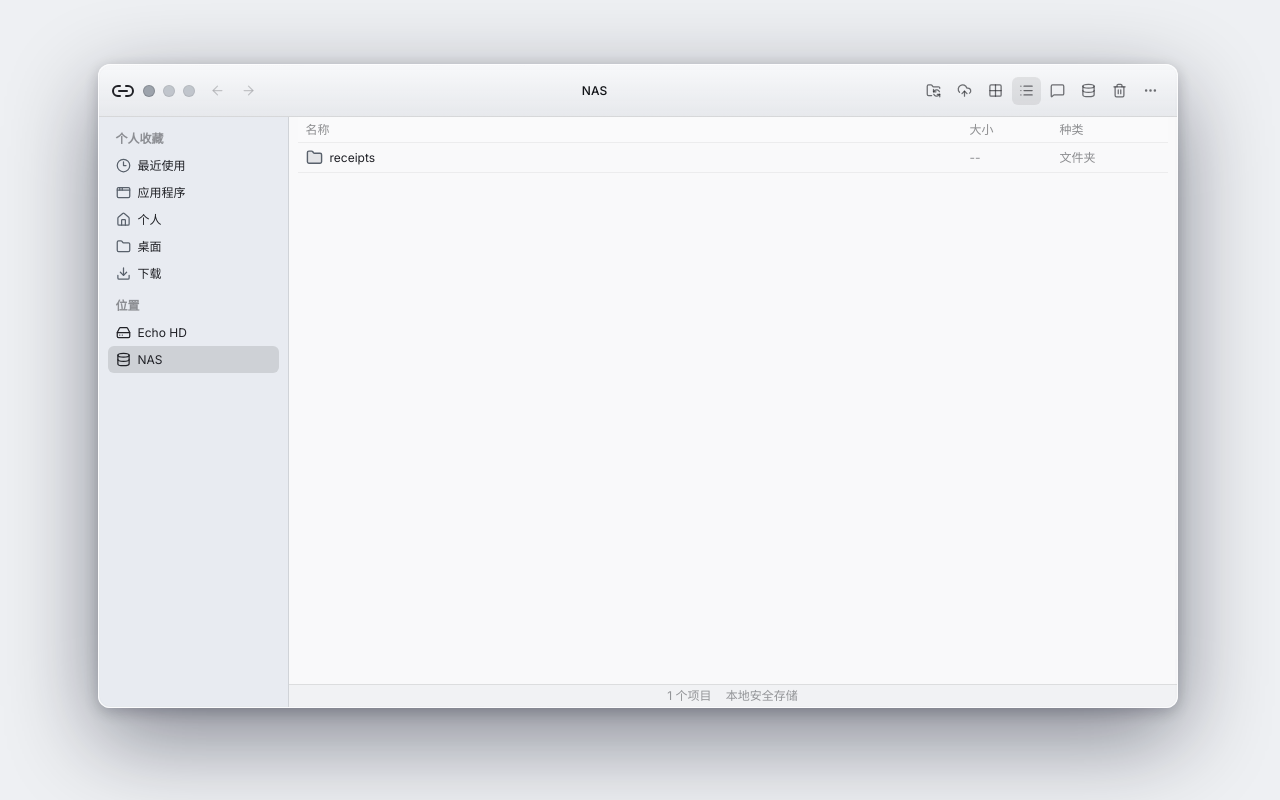
Scenario: FileManager organization entry › does not expose NAS organization from unconnected local folders or the recycle bin
Expected: the text "receipts" is shown, left=330, top=148, right=375, bottom=166
Click the button "个人": x=193, y=220 left=108, top=206, right=278, bottom=233
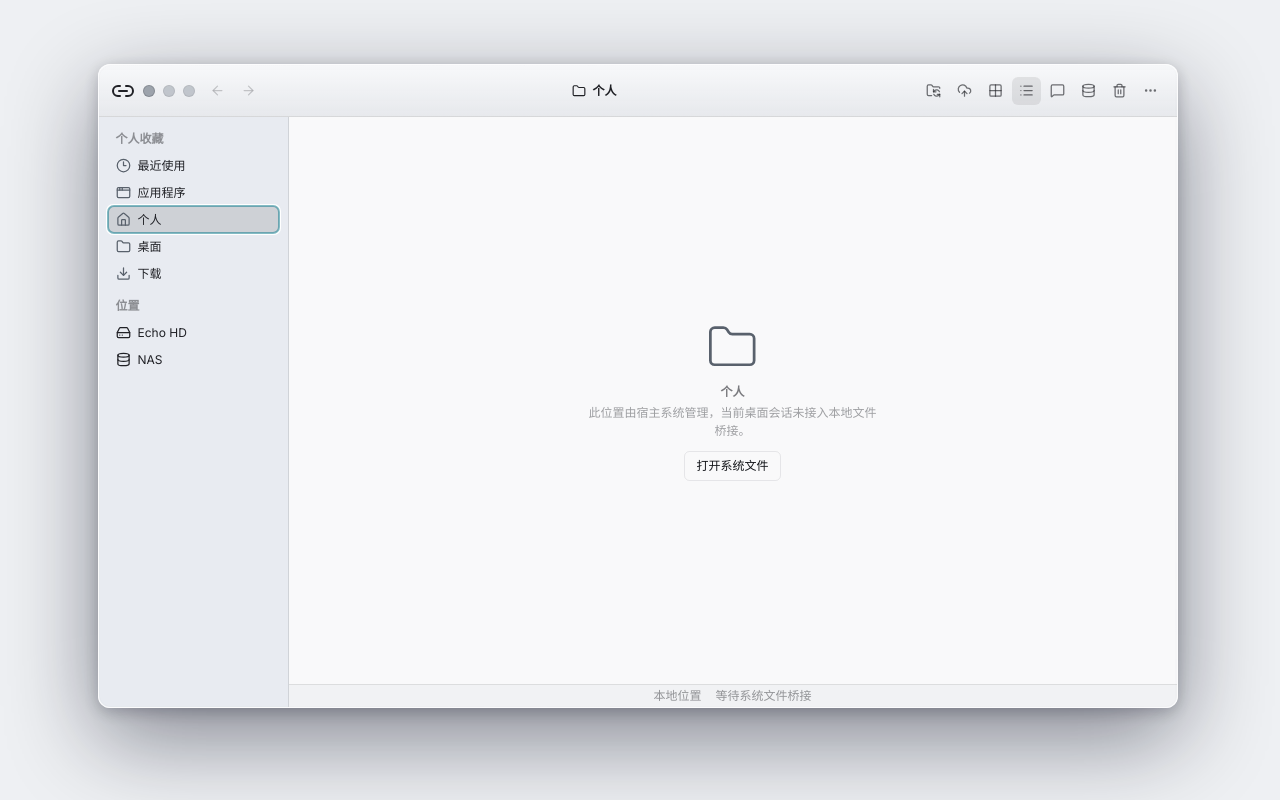
Expected: the button named "整理此目录" is disabled, left=918, top=76, right=948, bottom=104
Click the button named "回收站": x=1119, y=90 left=1104, top=76, right=1134, bottom=104
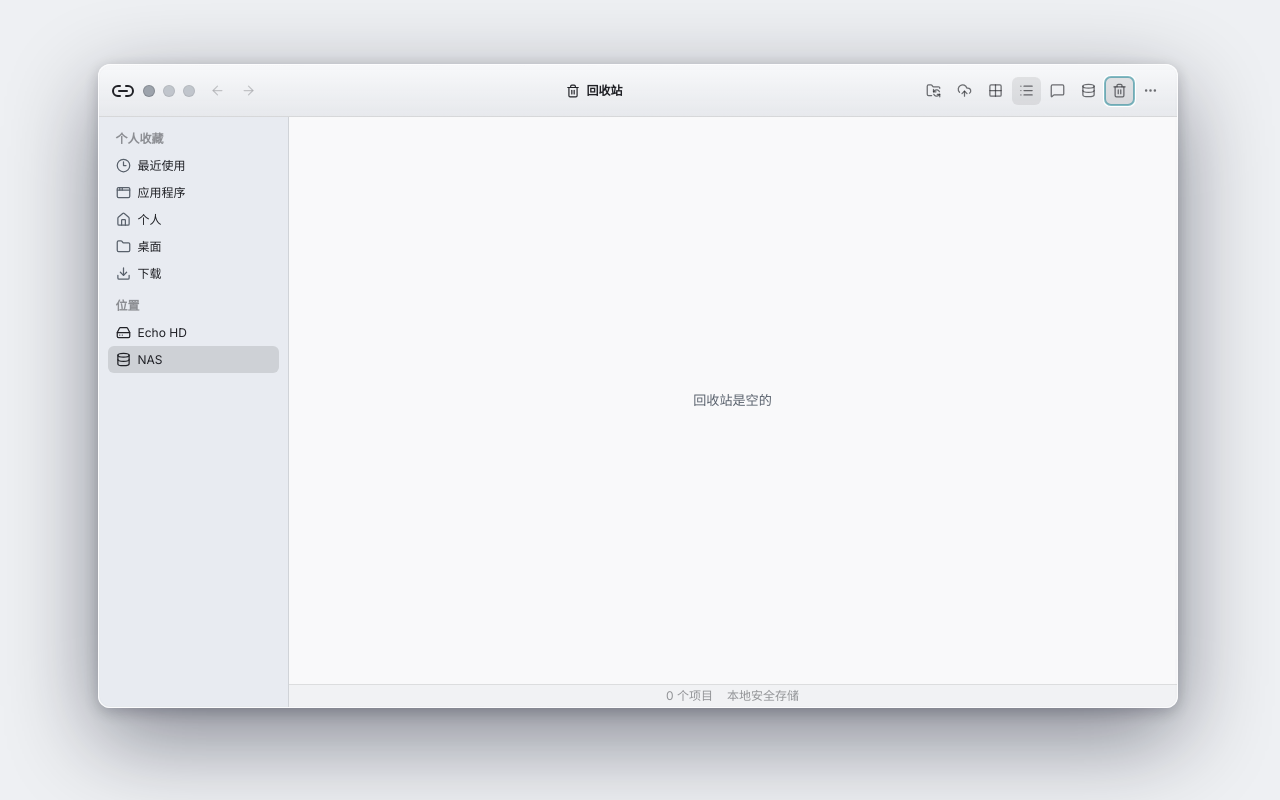
Expected: the button named "整理此目录" is disabled, left=918, top=76, right=948, bottom=104
Now the text "回收站是空的" is shown, box left=693, top=392, right=772, bottom=408
